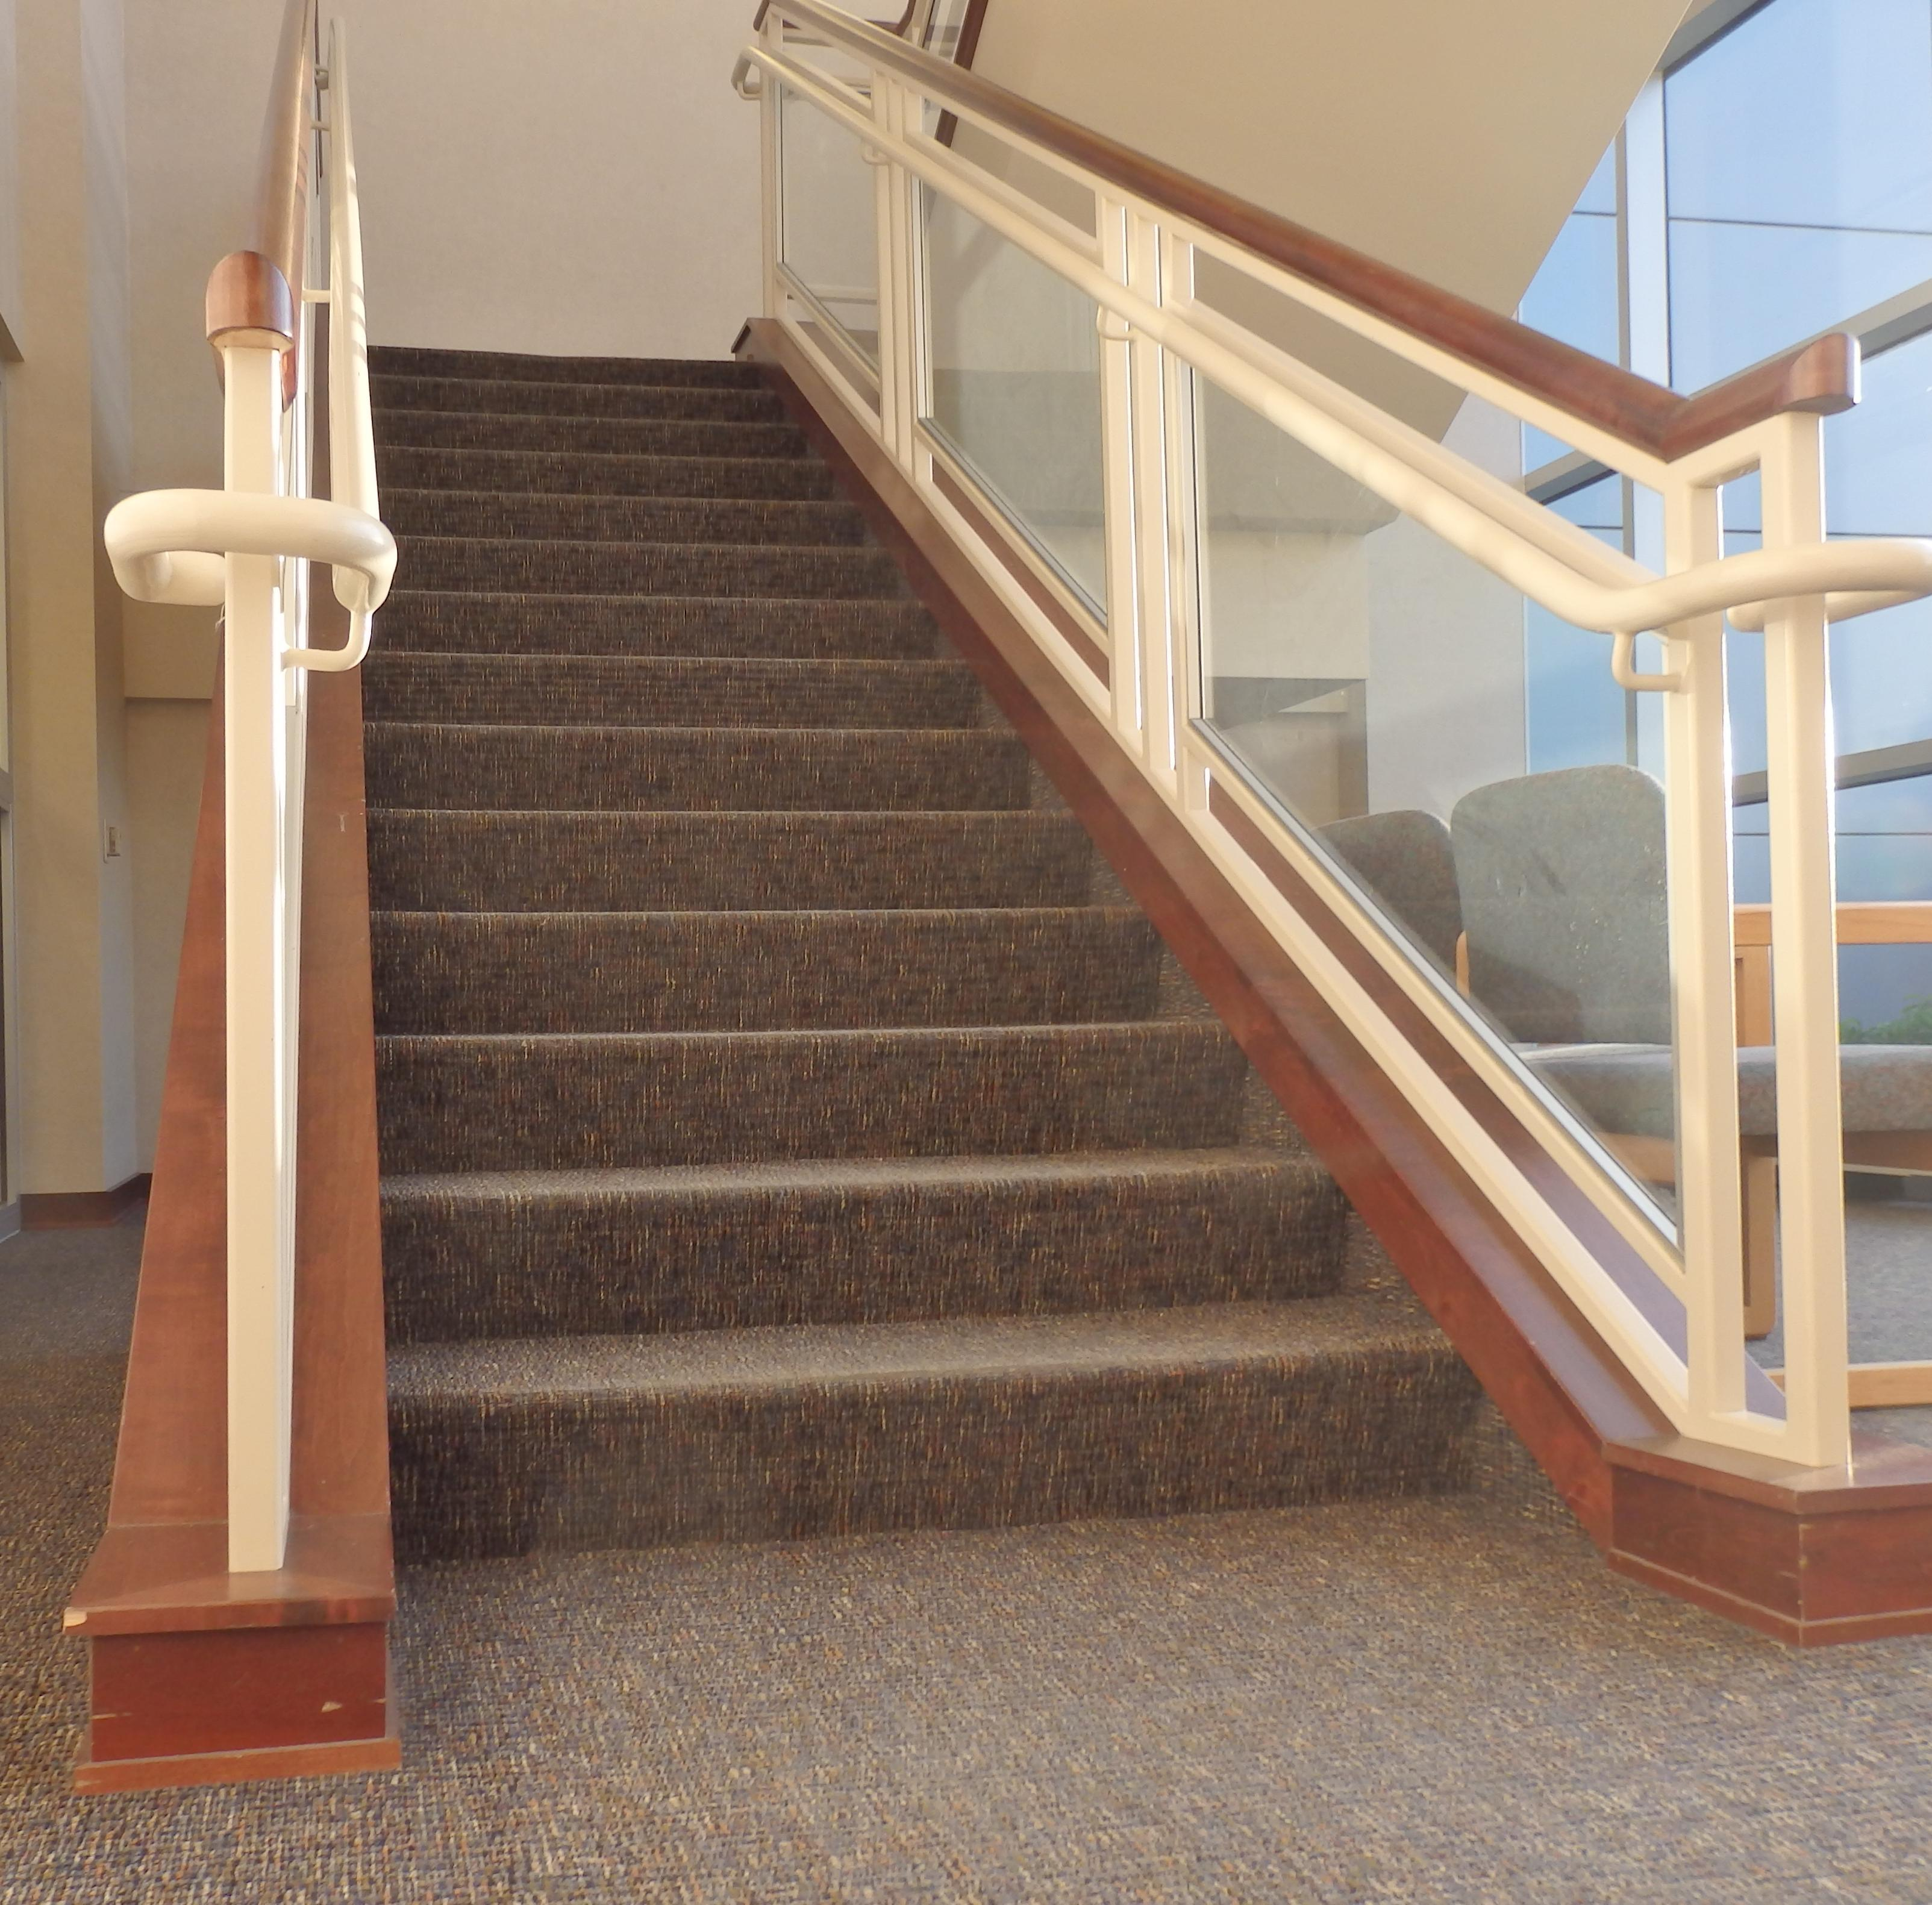stairs_up: (338, 319, 1519, 1509)
